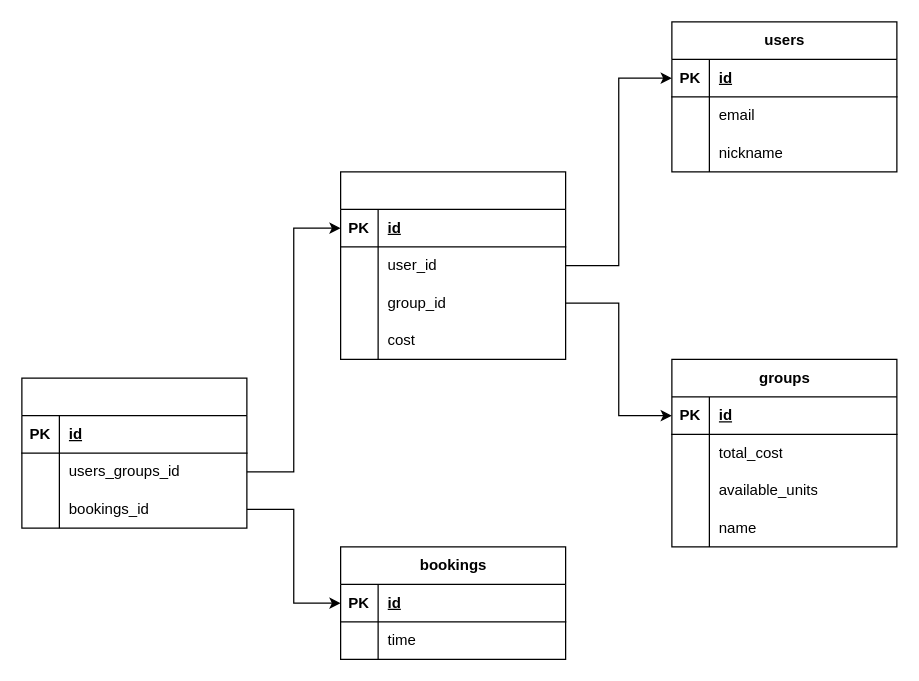
Some shapes in this 919 by 681 pixel diagram are drawn without their labels. The shapes that lost their labels are listed below. From the top down, each one's box as (x1, y1, x2, y2) in pixels, then its label:
(339, 171, 566, 359): users_groups
(21, 377, 247, 528): users_groups_bookings
